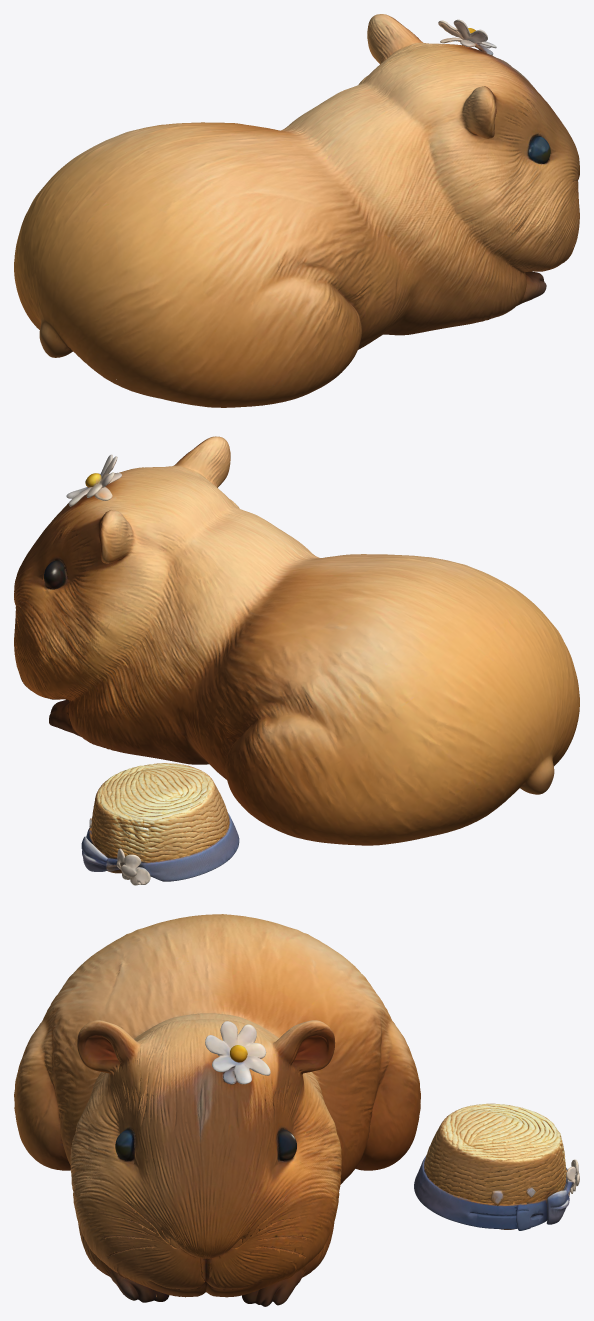
The model's file is garden-capybara.glb.
3 views of the same model, one above another, from view 1: azimuth 30°, elevation 25°; view 2: azimuth 150°, elevation 25°; view 3: azimuth 270°, elevation 25° (orthographic). The views are drawn at different scales.
Visible parts, largest first — view 1: tripo_node_57f81e96-3253-48f0-8736-97bd3eed530e; view 2: tripo_node_57f81e96-3253-48f0-8736-97bd3eed530e; view 3: tripo_node_57f81e96-3253-48f0-8736-97bd3eed530e.
Boxes of the visible parts, bbox=[...] form: tripo_node_57f81e96-3253-48f0-8736-97bd3eed530e: bbox=[14, 14, 579, 407]; tripo_node_57f81e96-3253-48f0-8736-97bd3eed530e: bbox=[14, 436, 579, 885]; tripo_node_57f81e96-3253-48f0-8736-97bd3eed530e: bbox=[14, 914, 579, 1306].
Bounding box in the file's own units: 0.9803 × 0.4633 × 0.8796.
Materials: 1 (1 with a texture image).
